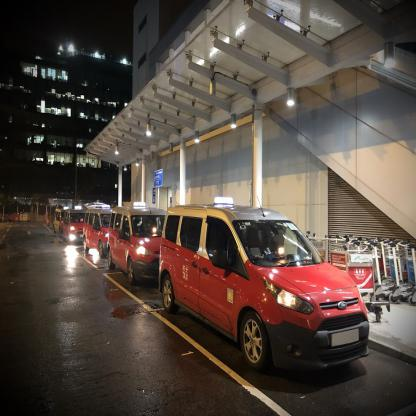taxi: (157, 191, 379, 391), (110, 205, 167, 290), (83, 208, 116, 266)
